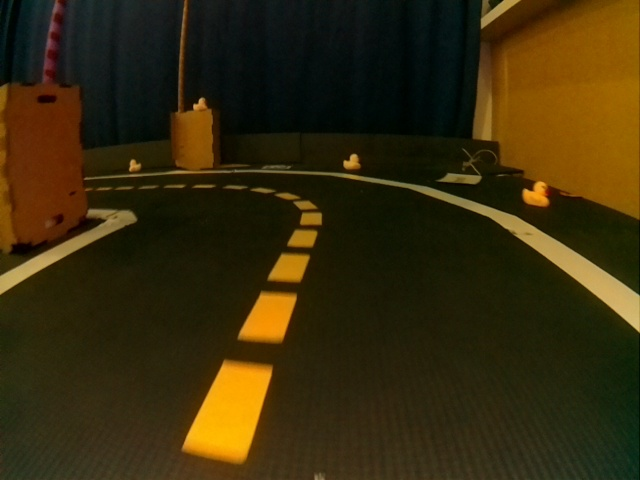Duckie: (522, 182, 550, 207), (343, 154, 361, 170), (129, 159, 141, 171), (194, 99, 206, 108)
QR code: (261, 164, 292, 172)
